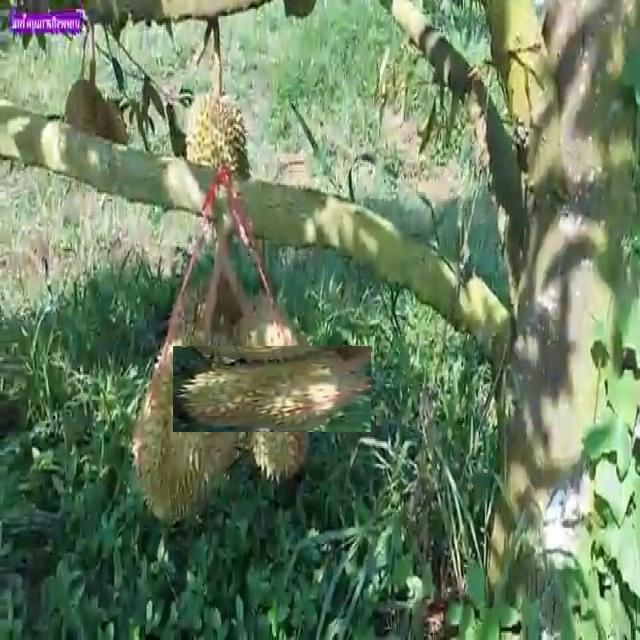durian: (127, 321, 250, 531), (200, 318, 343, 460), (181, 92, 254, 240), (58, 74, 133, 186)
